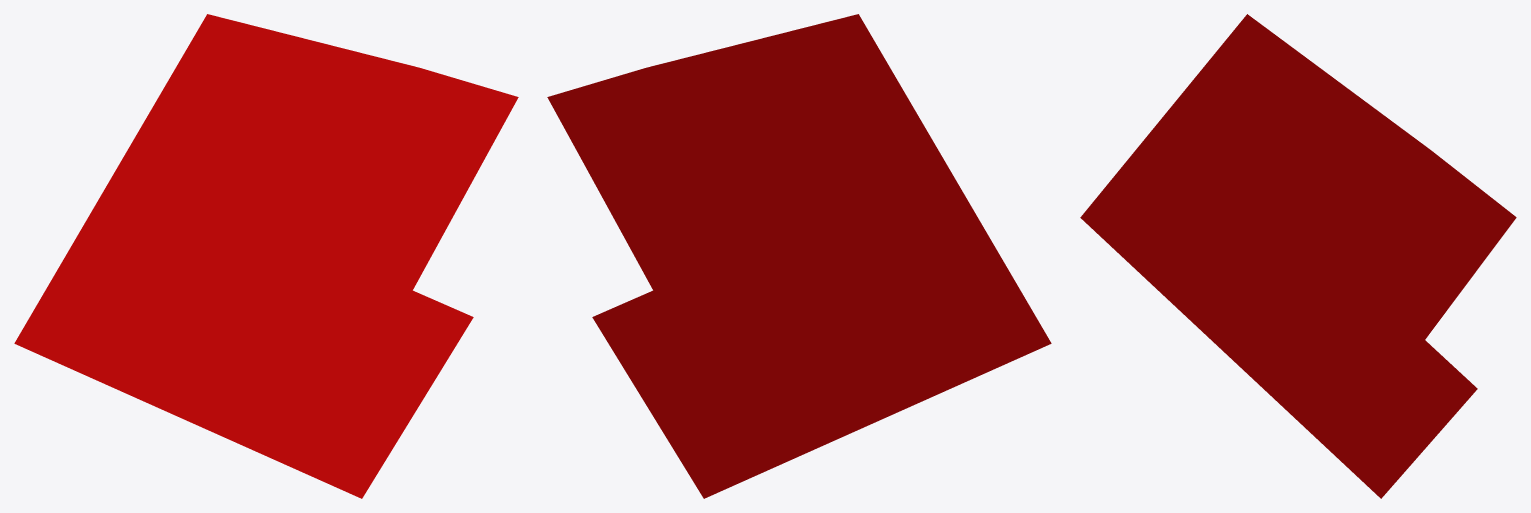
The model's file is building_lod1_3857_roof.glb.
3 renders of one model, left to right at view 1: azimuth 30°, elevation 25°; view 2: azimuth 150°, elevation 25°; view 3: azimuth 330°, elevation 25°, orthographic. The views are drawn at different scales.
Bounding box in the file's own units: 32.12 × 31.8 × 0.
